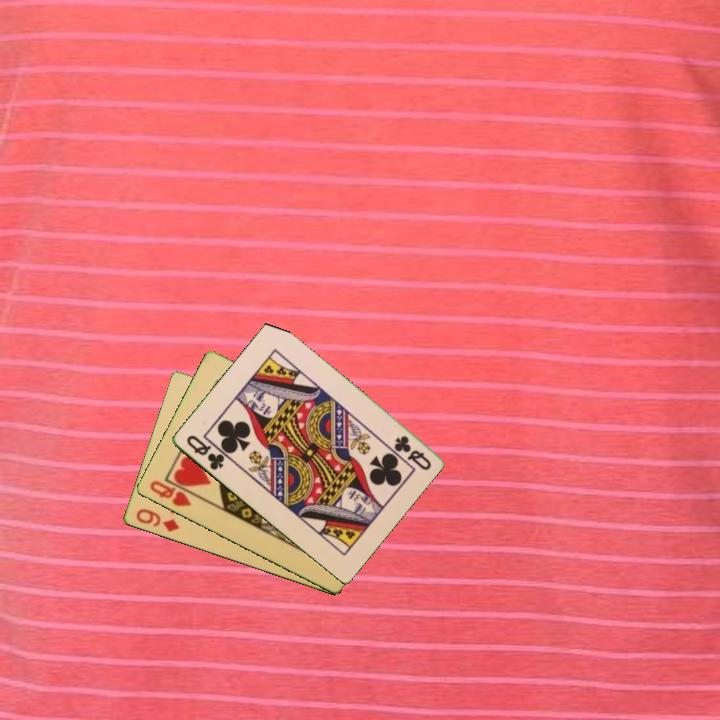9d: (132, 505, 182, 535)
Qc: (182, 431, 227, 473), (390, 432, 434, 474)
Qh: (146, 477, 194, 510)
